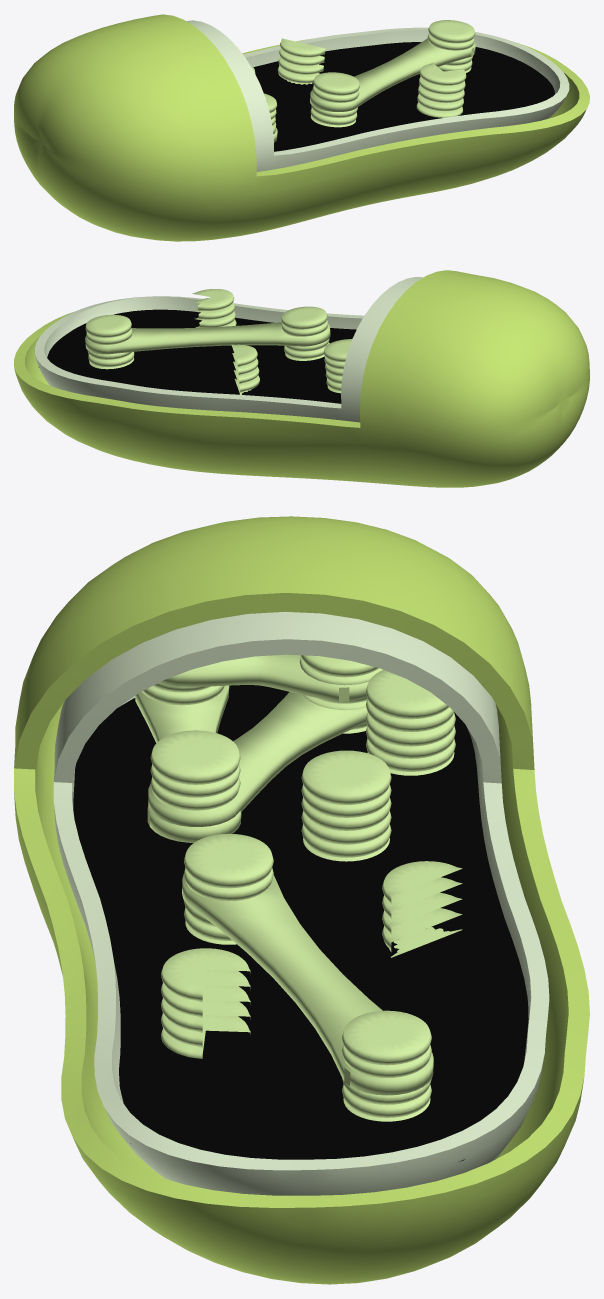
File: cloroplasto.glb
The picture shows the model from 3 angles, top to bottom: view 1: azimuth 30°, elevation 25°; view 2: azimuth 150°, elevation 25°; view 3: azimuth 270°, elevation 25°; orthographic projection. The views are drawn at different scales.
Visible parts, largest first — view 1: cloro(Clone); view 2: cloro(Clone); view 3: cloro(Clone).
Part boxes in pixels (bbox=[...]): cloro(Clone): bbox=[14, 14, 589, 241]; cloro(Clone): bbox=[14, 270, 589, 487]; cloro(Clone): bbox=[14, 516, 589, 1284].
Bounding box in the file's own units: 1.65 × 0.6506 × 0.8116.
6 materials, 1 textured.
